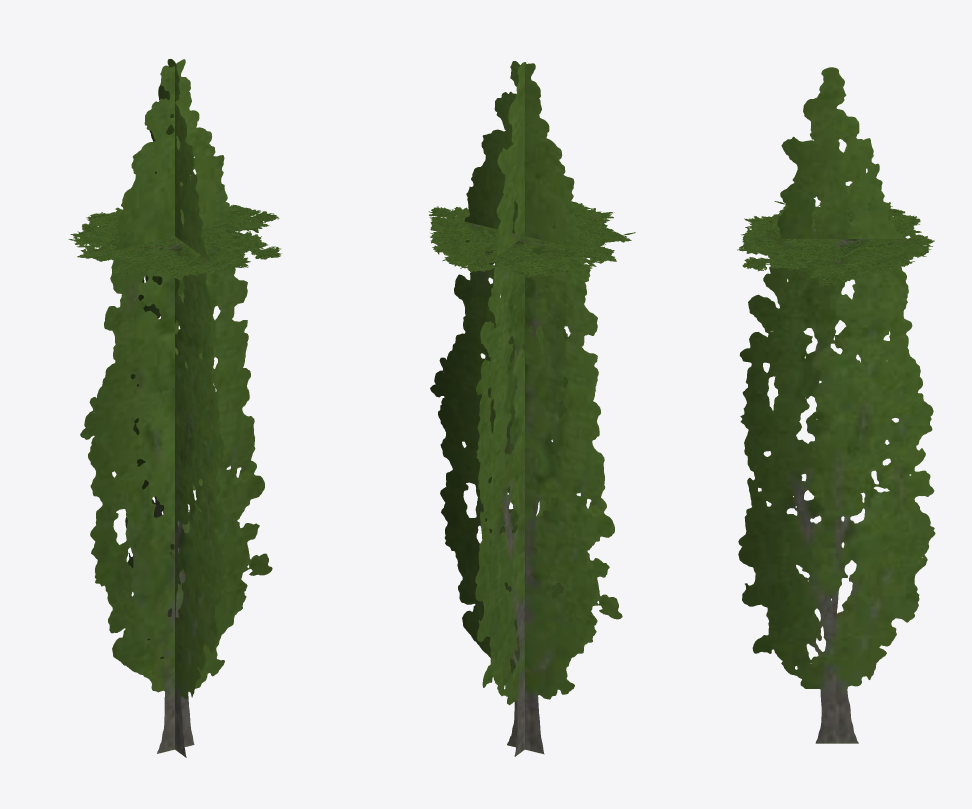
Rendered from arbre_peuplier_lod2.glb.
3 views of the same model, side by side, from view 1: azimuth 30°, elevation 25°; view 2: azimuth 150°, elevation 25°; view 3: azimuth 270°, elevation 25° (orthographic).
Visible parts, largest first — view 1: arbre_peuplier_lod2; view 2: arbre_peuplier_lod2; view 3: arbre_peuplier_lod2.
Part boxes in pixels (x1,y1,x2,y2): arbre_peuplier_lod2: [68, 59, 281, 757]; arbre_peuplier_lod2: [428, 61, 635, 756]; arbre_peuplier_lod2: [737, 67, 935, 743].
Bounding box in the file's own units: 5.02 × 15.44 × 5.02.
1 material, 1 textured.
